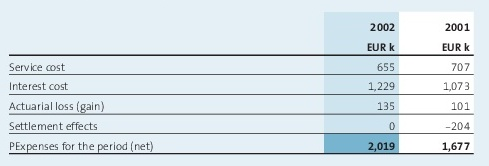table: (0, 0, 489, 166)
